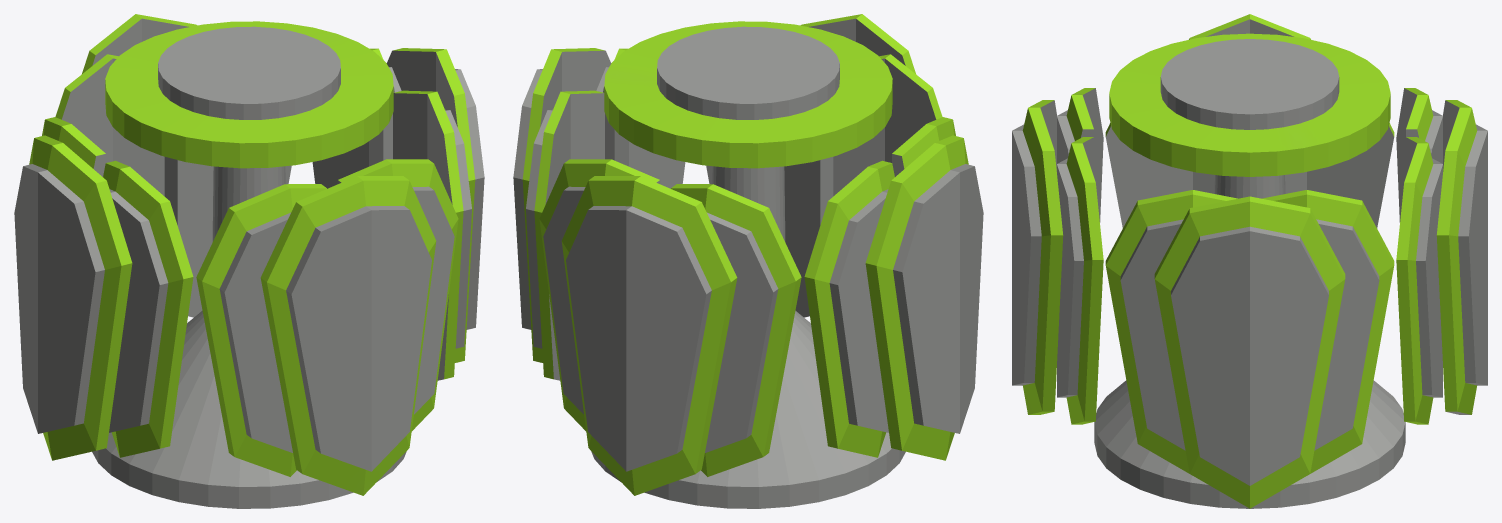
File: barrier_upgraded.fbx
3 renders of one model, left to right at view 1: azimuth 30°, elevation 25°; view 2: azimuth 150°, elevation 25°; view 3: azimuth 270°, elevation 25°, orthographic. The views are drawn at different scales.
Visible parts, largest first — view 1: Circle; view 2: Circle; view 3: Circle.
Part boxes in pixels (x1,y1,x2,y2): Circle: [14, 14, 484, 508]; Circle: [513, 14, 983, 508]; Circle: [1012, 14, 1487, 508].
Bounding box in the file's own units: 572 × 486 × 572.
Materials: 1 (1 with a texture image).
